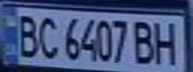0: (93, 17, 115, 63)
4: (78, 15, 96, 62)
6: (60, 15, 81, 61)
7: (112, 17, 130, 64)
B: (12, 11, 42, 58), (130, 18, 160, 65)
C: (33, 12, 60, 61)
H: (151, 18, 184, 66)
